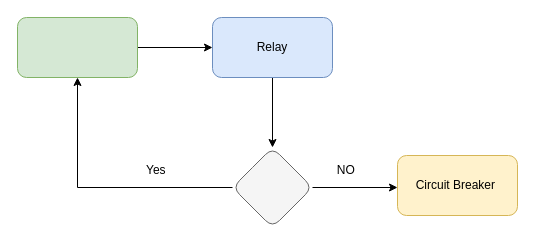
This 535x245 diagram has some shape labels left out. The centre of each missing label's shape, as x and y in pixels:
"Instrumentation Transformer" belongs at (77,47).
"Normal Operation?" belongs at (272,187).
